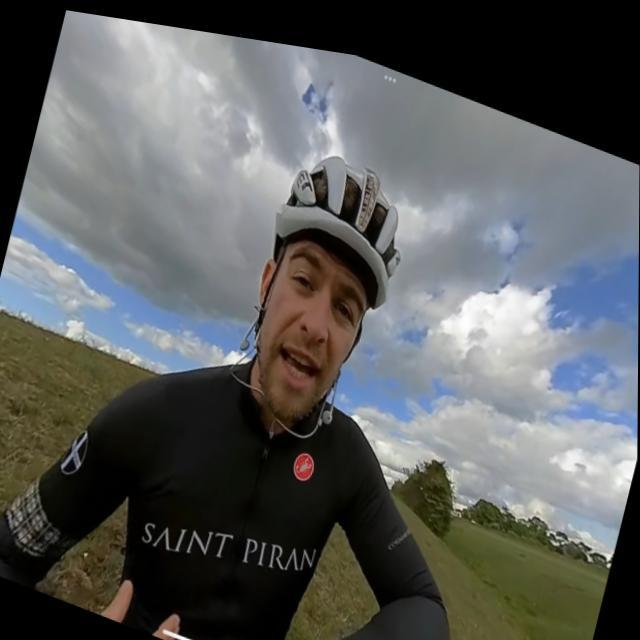Helmet: (242, 151, 405, 423)
